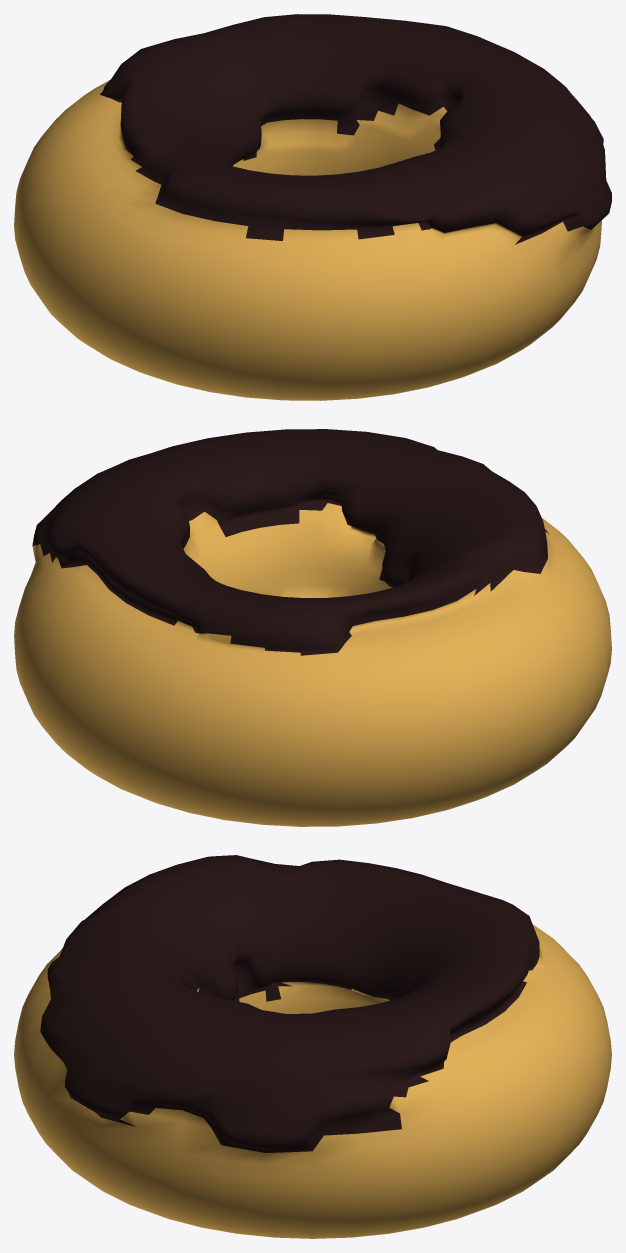
File: dougnut.obj
The picture shows the model from 3 angles, top to bottom: view 1: azimuth 30°, elevation 25°; view 2: azimuth 150°, elevation 25°; view 3: azimuth 270°, elevation 25°; orthographic projection.
Parts seen in each view (by area): view 1: pTorus1; view 2: pTorus1; view 3: pTorus1.
Part boxes in pixels (<box>): pTorus1: <box>14,14,611,400</box>; pTorus1: <box>14,429,611,826</box>; pTorus1: <box>14,855,611,1238</box>.
Bounding box in the file's own units: 3.02 × 1.14 × 2.95.
